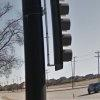traffic lights: (49, 0, 74, 72)
